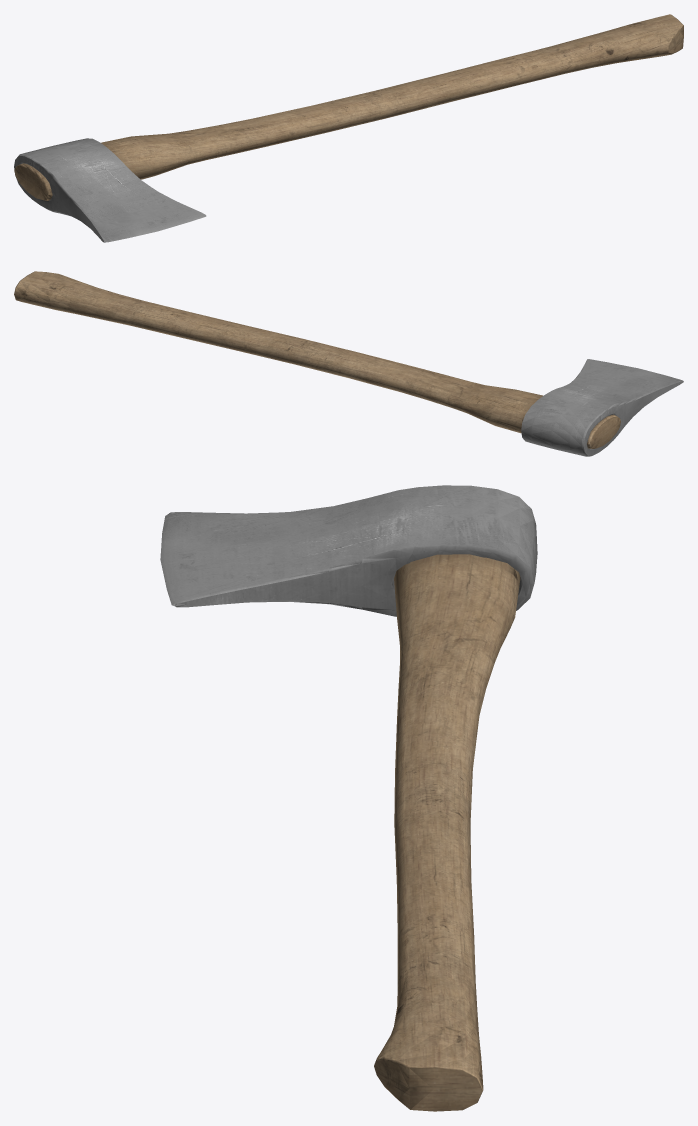
The model's file is hacha.obj.
3 views of the same model, one above another, from view 1: azimuth 30°, elevation 25°; view 2: azimuth 150°, elevation 25°; view 3: azimuth 270°, elevation 25° (orthographic). The views are drawn at different scales.
Visible parts, largest first — view 1: axe; view 2: axe; view 3: axe.
Boxes of the visible parts, <box> form: axe: <box>14,14,683,242</box>; axe: <box>14,271,683,456</box>; axe: <box>160,485,537,1111</box>.
Size of the model in its own units: 0.5805 by 0.0364 by 0.1602.
